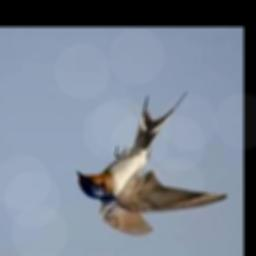Swallow: (78, 91, 228, 237)
